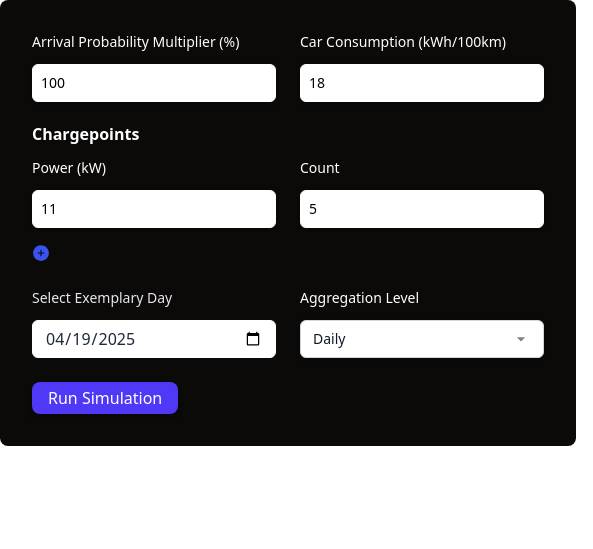
Test: ChargePointForm › removes a chargepoint on clicking remove
The image size is (593, 549).
Click the button named "Add Charging Point" at (41,253), box [32,244,50,262]
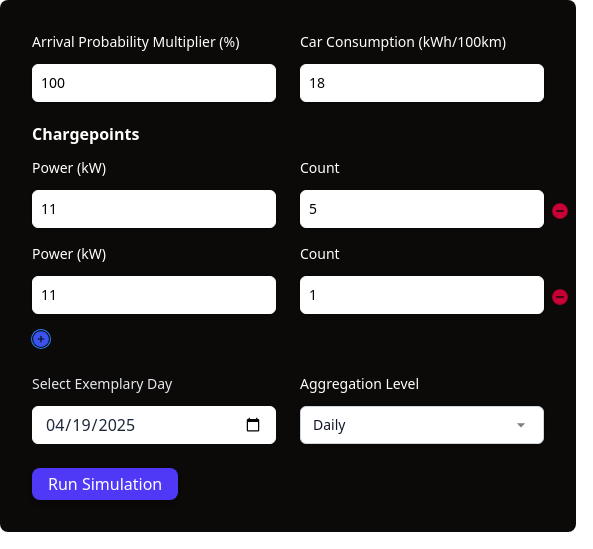
Click the 1st button named "Remove Charging Point" at (560,211), box [551,202,569,220]
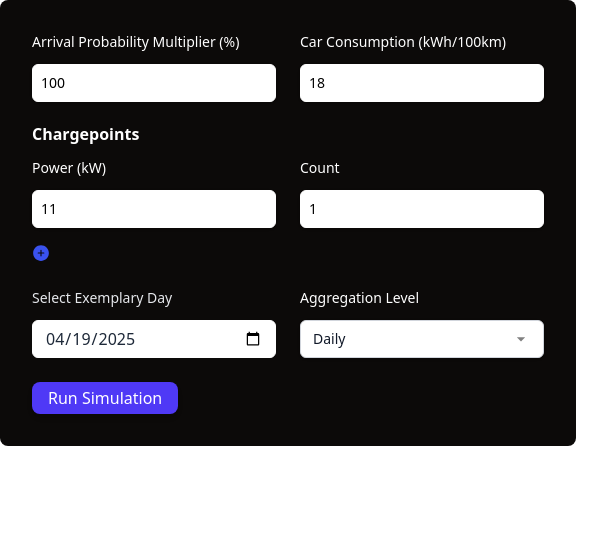
Result: the number of number fields labelled "Power (kW)" is 1 at [32,190,276,228]
